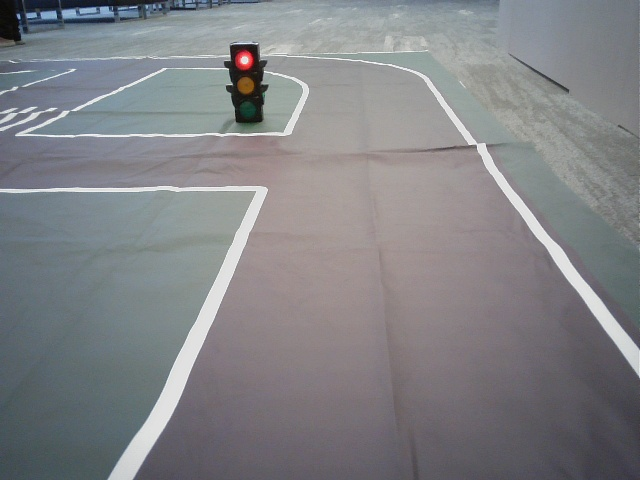red: (233, 47, 258, 121)
